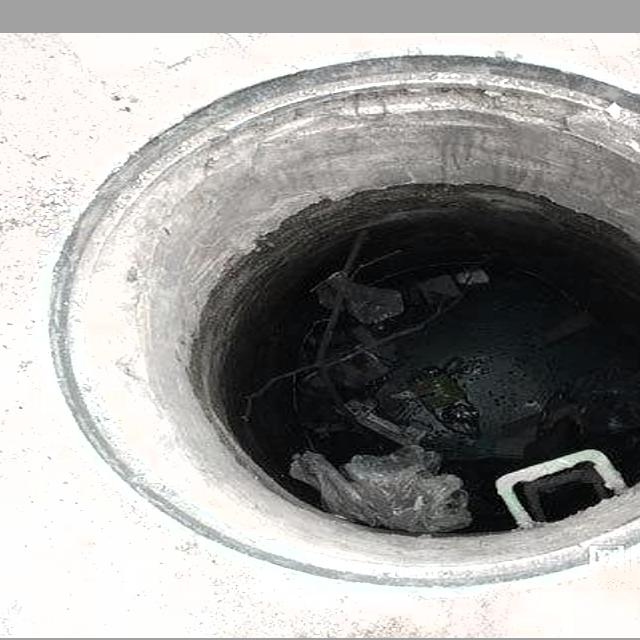lose: (30, 42, 640, 589)
